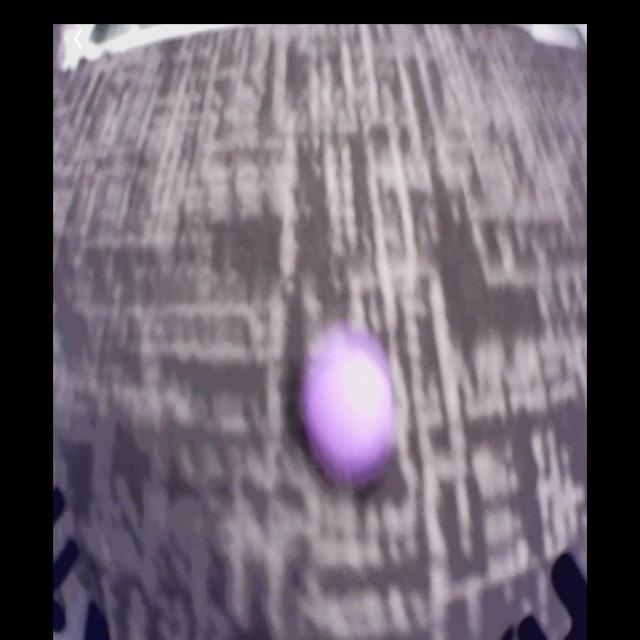ball: (301, 331, 400, 485)
